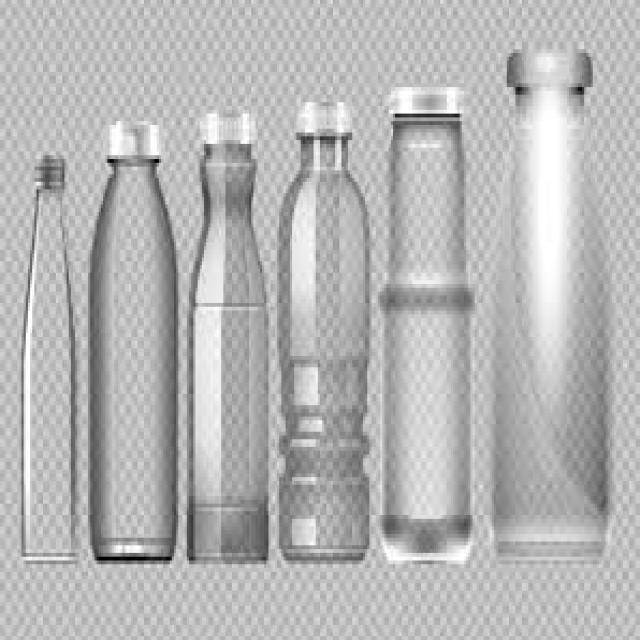Glass-Non-Biodegradable but Recyclable-: (490, 54, 610, 562), (382, 90, 480, 564), (276, 105, 369, 562), (188, 116, 272, 562), (91, 128, 177, 560), (22, 160, 79, 564)
